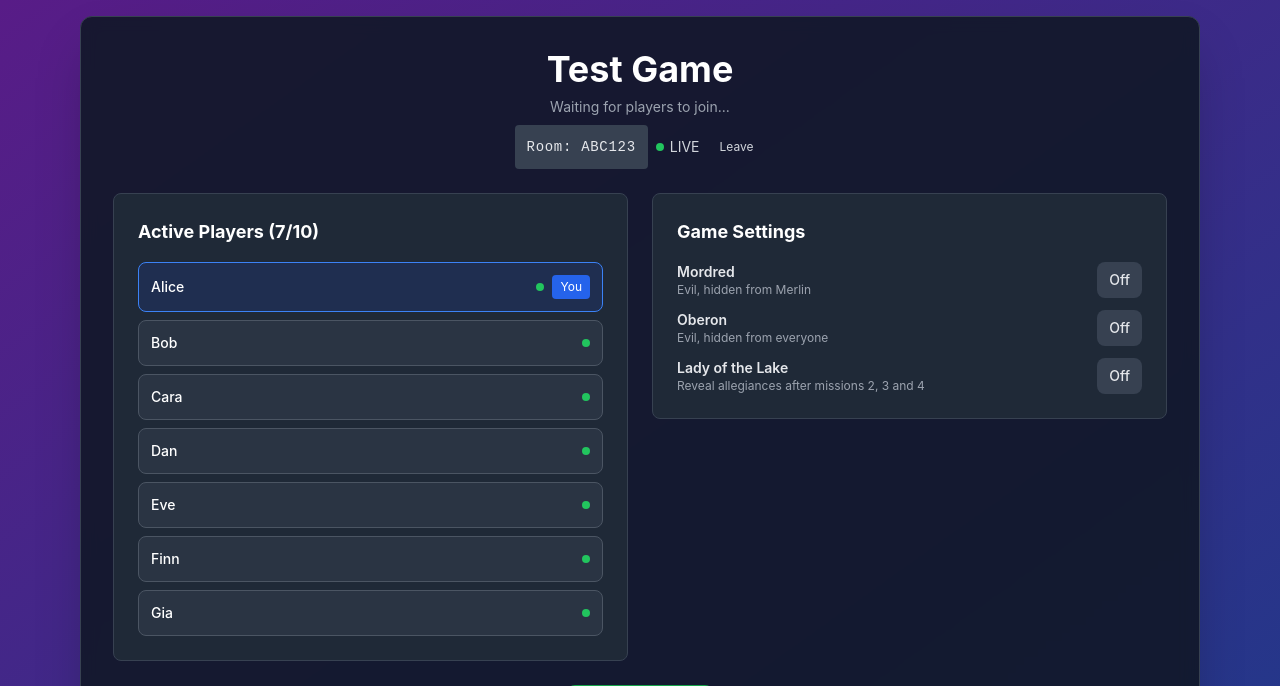
Test: Lobby › error banner › shows generic error when API response has no detail
The image size is (1280, 686).
What coordinates should you click on to do the following:
click the switch labelled "Off" in the row of "Evil, hidden from Merlin"
I would click on:
 (1120, 280)
Its box is x1=1097 y1=262 x2=1142 y2=298.
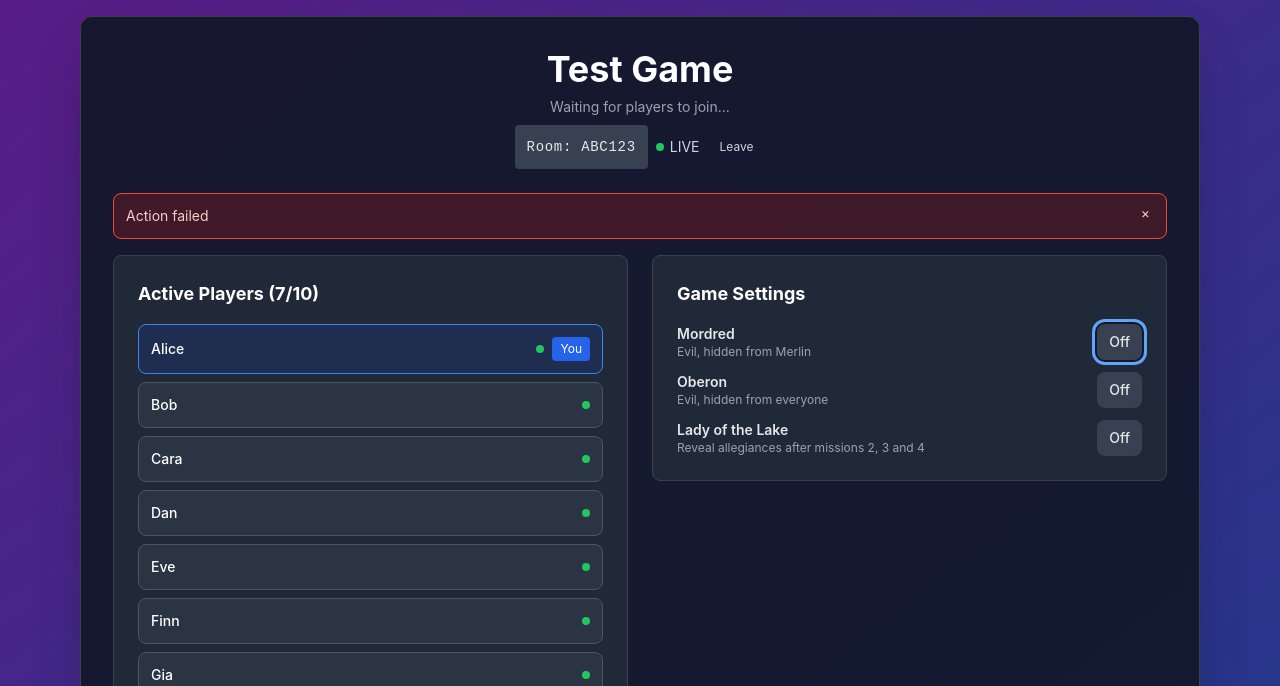
Now the text "Action failed" is shown, box x1=126 y1=207 x2=209 y2=224
